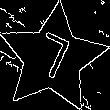L_SW: (29, 29, 77, 88)
